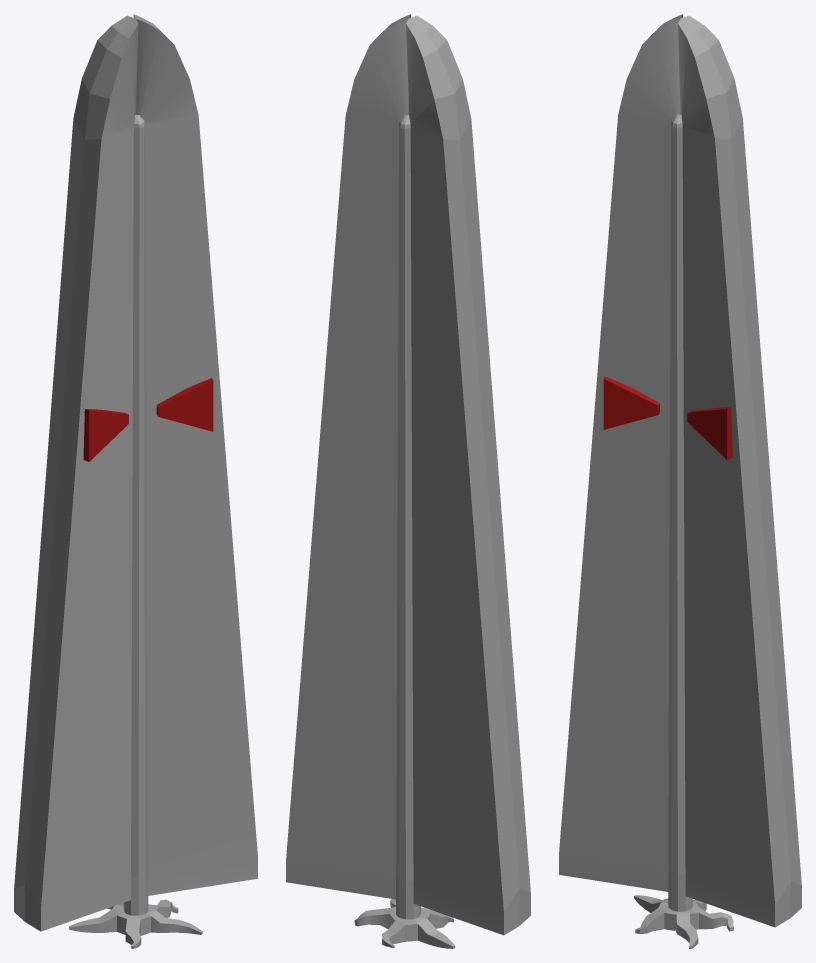
The model's file is Boss.fbx.
3 renders of one model, left to right at view 1: azimuth 30°, elevation 25°; view 2: azimuth 150°, elevation 25°; view 3: azimuth 330°, elevation 25°, orthographic.
Visible parts, largest first — view 1: polySurface1, pCube1, polySurface2; view 2: polySurface1, polySurface2; view 3: polySurface1, pCube1, polySurface2.
Part boxes in pixels (x1=…): polySurface1: x1=14, y1=14, x2=257, y2=931; pCube1: x1=83, y1=378, x2=213, y2=461; polySurface2: x1=69, y1=899, x2=202, y2=948; polySurface1: x1=286, y1=14, x2=530, y2=935; polySurface2: x1=354, y1=899, x2=455, y2=948; polySurface1: x1=559, y1=14, x2=801, y2=927; pCube1: x1=603, y1=376, x2=732, y2=459; polySurface2: x1=634, y1=895, x2=733, y2=948.
Bounding box in the file's own units: 4.51 × 17.65 × 1.9.
